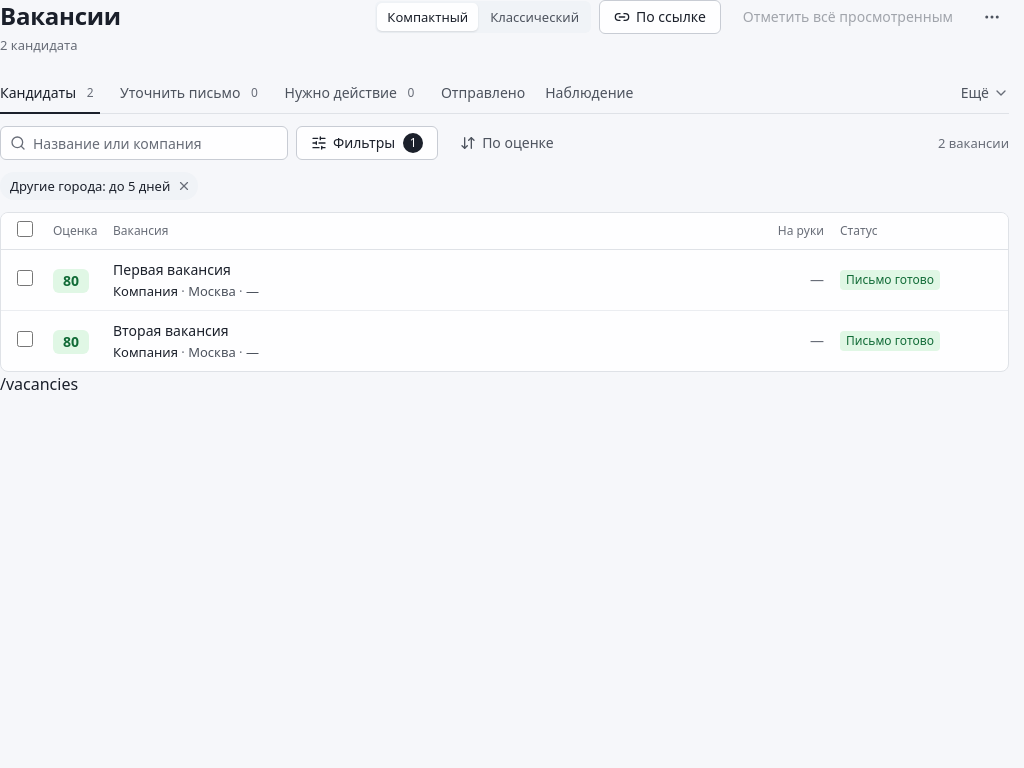
Scenario: VacanciesPage › walks the list from the open card with J and K
Click the button "Первая вакансия" at {"x": 172, "y": 270}, box [113, 260, 231, 280]
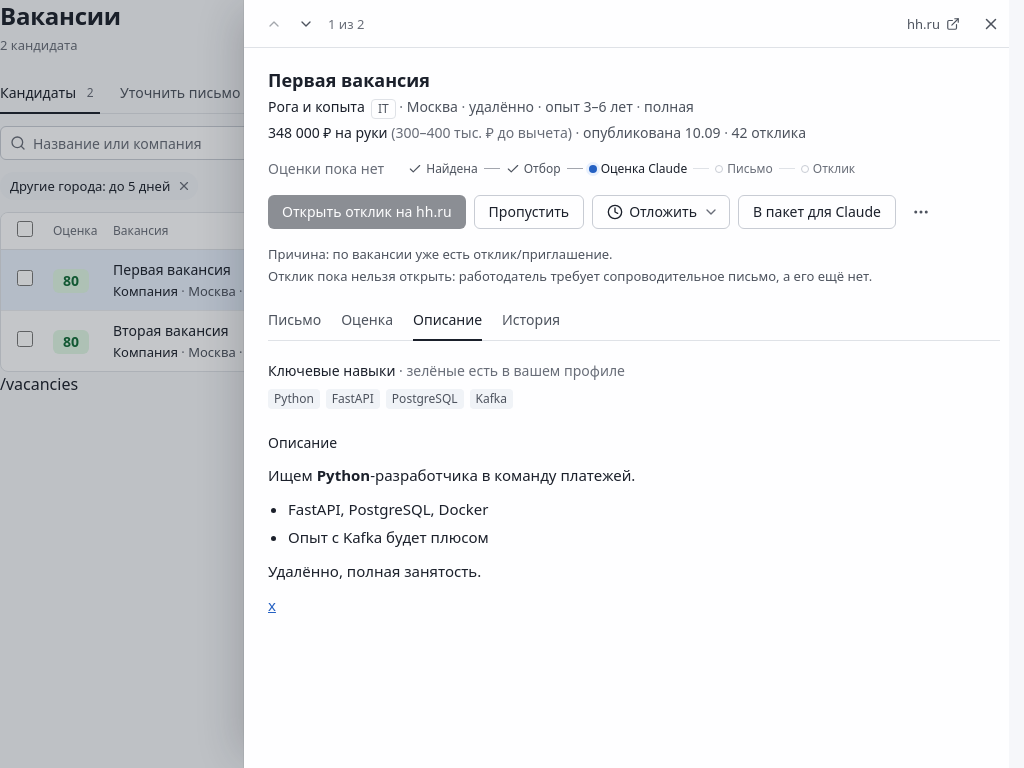
Result: the heading "Первая вакансия" is shown at [268, 68, 430, 92]
Result: the text "1 из 2" is shown at [328, 14, 364, 32]
Press j in the dialog
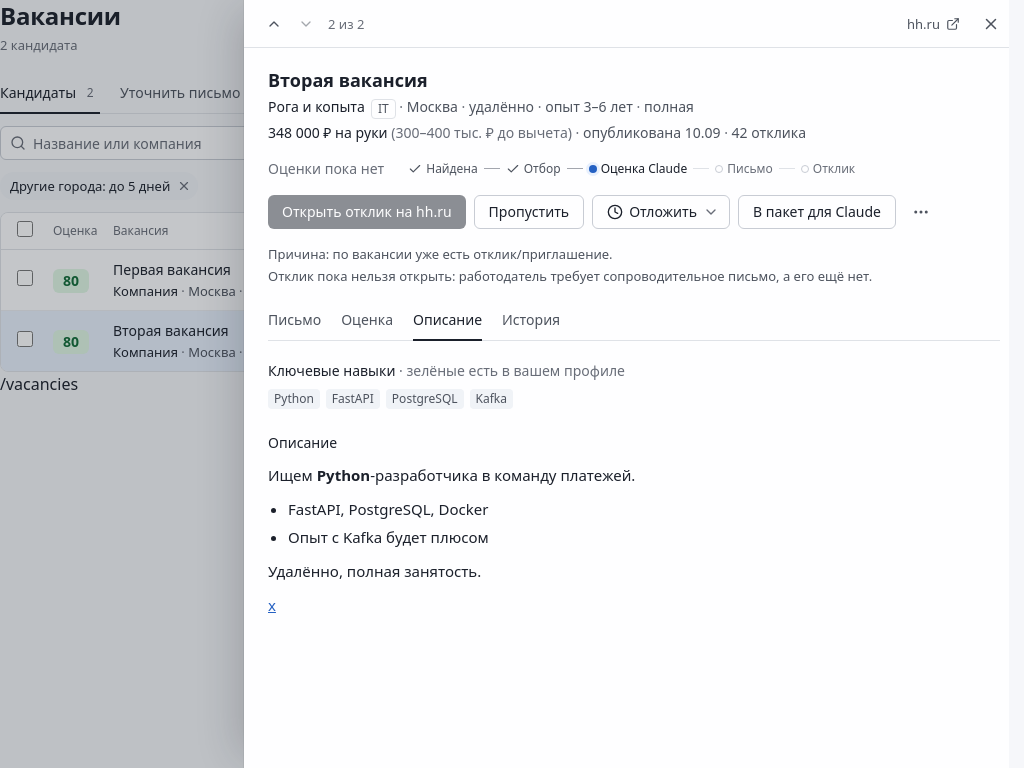
Result: the heading "Вторая вакансия" is shown at [268, 68, 428, 92]
Press л in the dialog
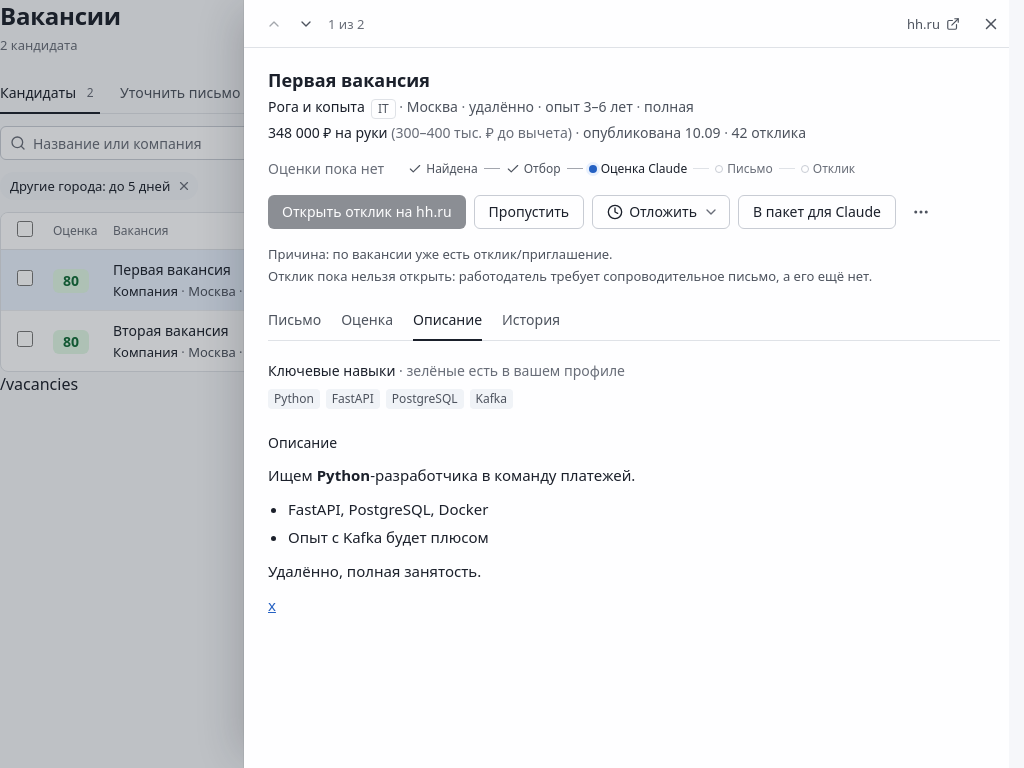
Result: the heading "Первая вакансия" is shown at [268, 68, 430, 92]
